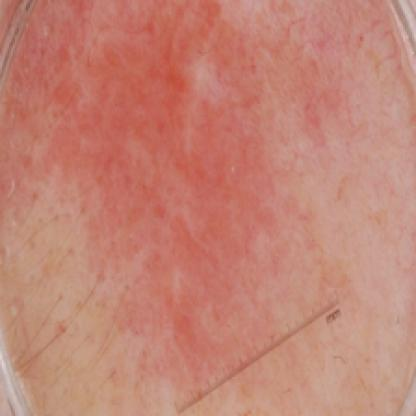malignant: (39, 20, 282, 240)
